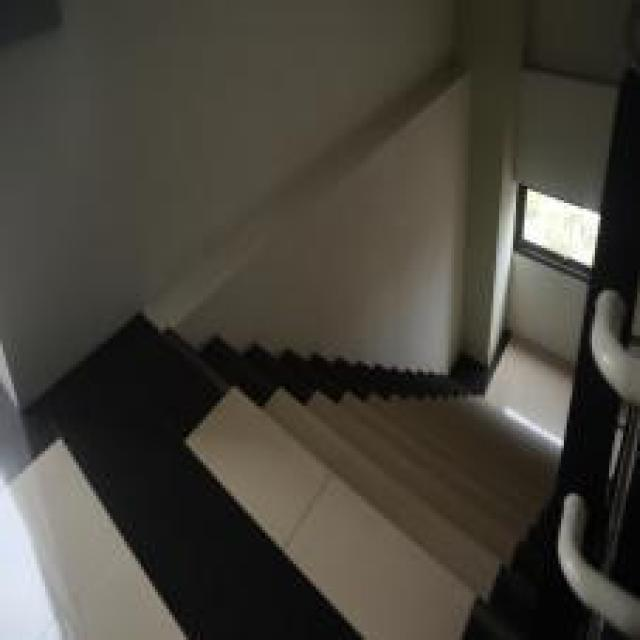downstair: (193, 373, 542, 624)
